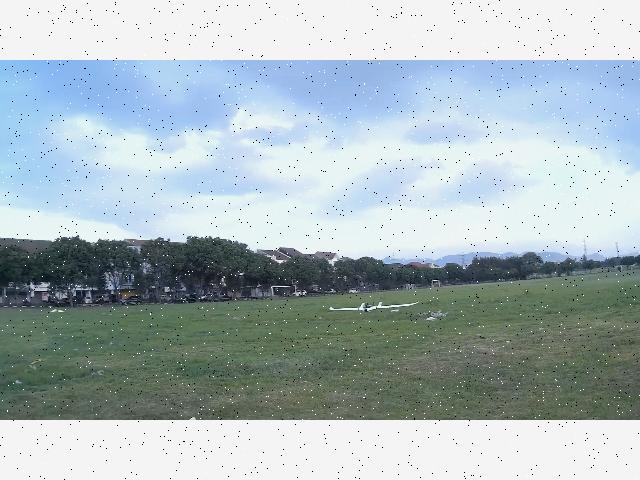Anti-Drone: (330, 302, 418, 313)
